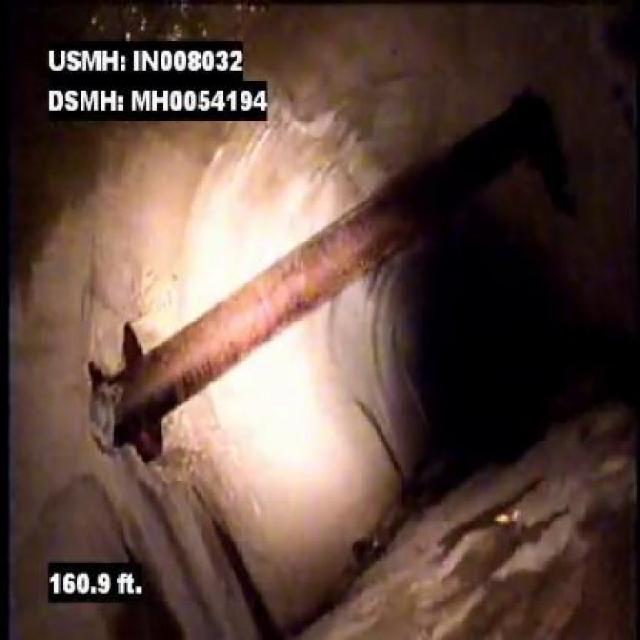Utility intrusion: (89, 128, 546, 478)
